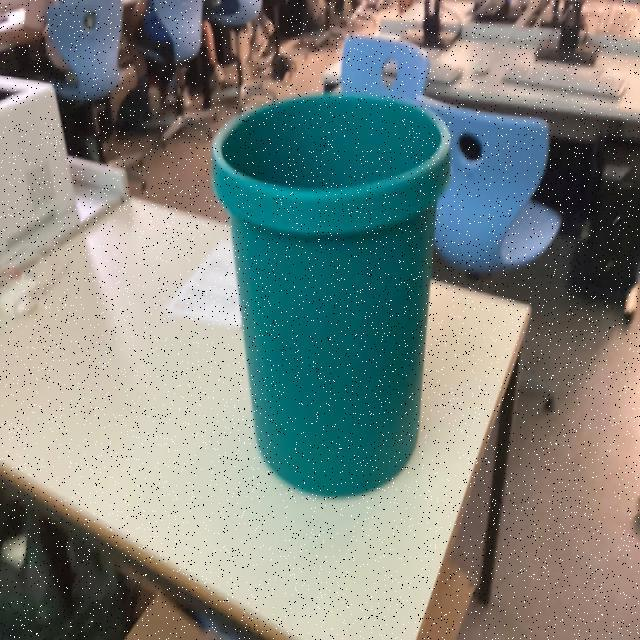garbage container: (203, 75, 459, 518)
